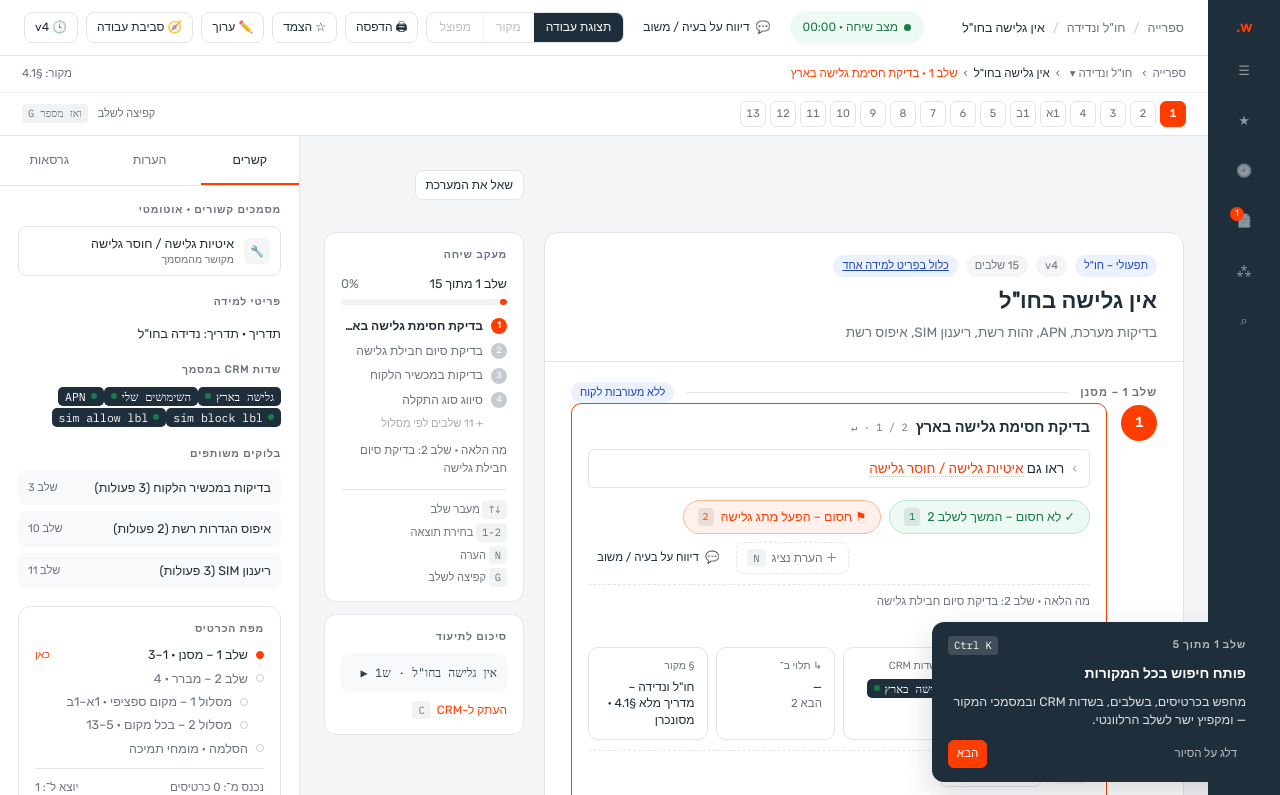
Test case: I10 — features that must not read page 1 of the library › peeks a document that is not in any loaded list
Hover over the link "איטיות גלישה / חוסר גלישה" at point(946, 468), box [869,460,1024,477]
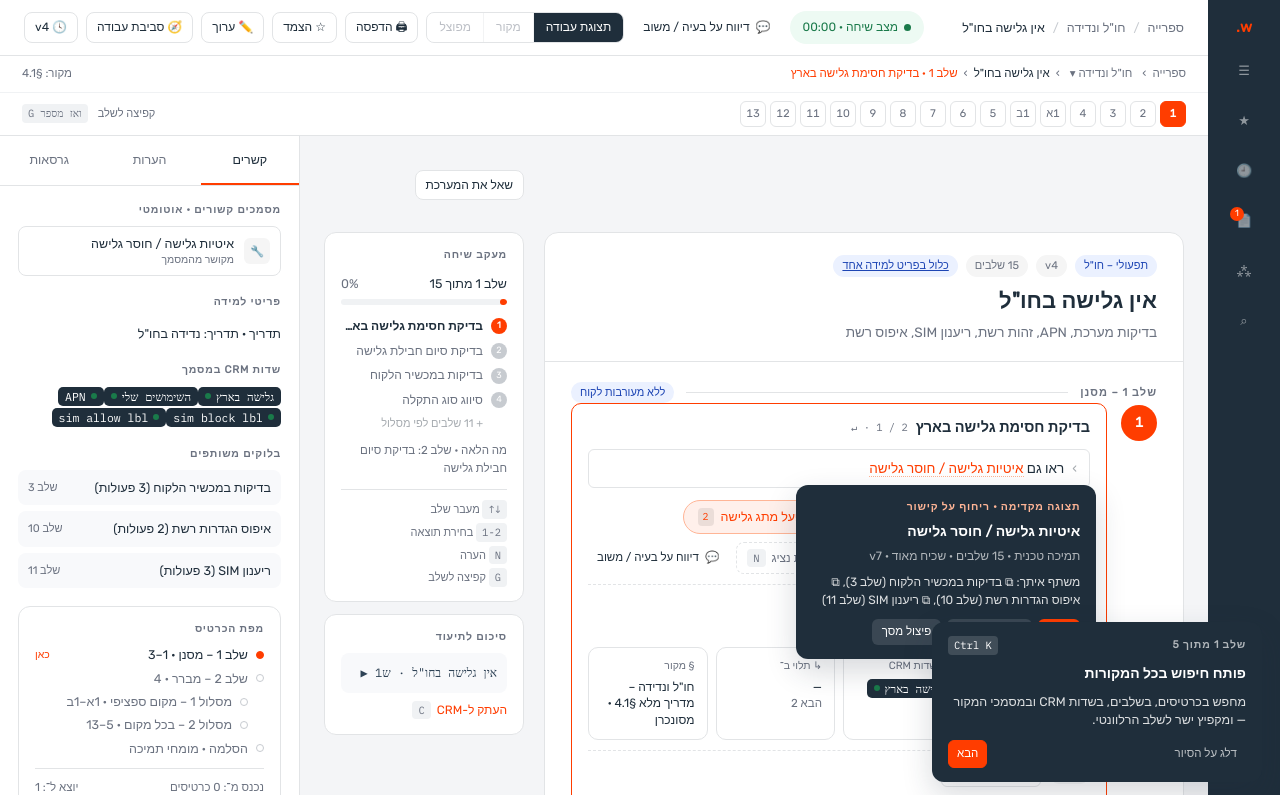
Expected: the element that starts with "תצוגה מקדימה · ריחוף על קישור" shows "15 שלבים", [796,485,1096,659]
Expected: the element that starts with "תצוגה מקדימה · ריחוף על קישור" shows "תמיכה טכנית", [1014,548,1080,562]
